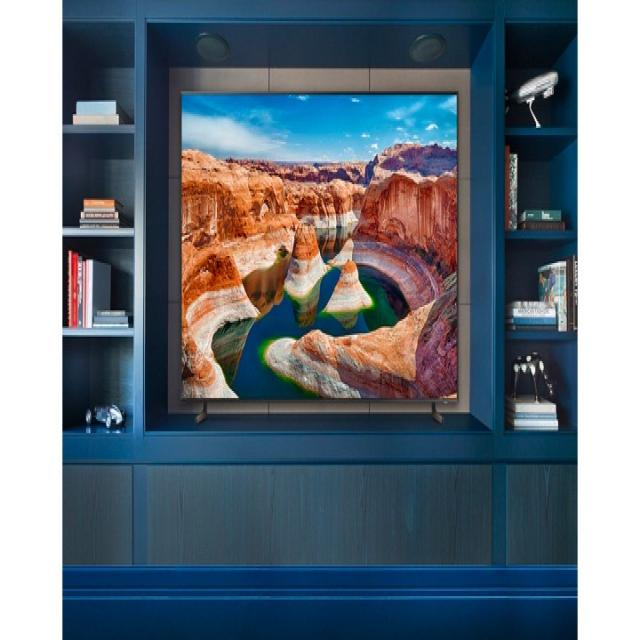electronics: (181, 95, 457, 400), (508, 74, 556, 124), (510, 351, 555, 402), (508, 74, 556, 100), (410, 32, 444, 60), (196, 32, 228, 60), (86, 403, 124, 426)
